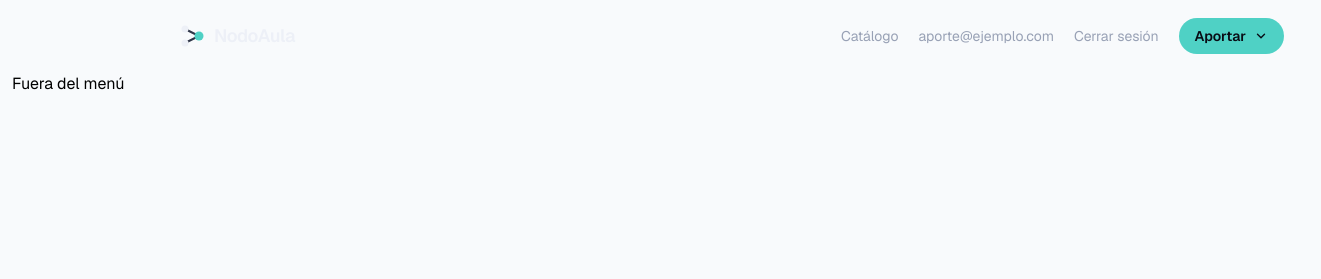
Test: SiteHeader › un clic fuera lo cierra
The image size is (1321, 279).
Click the button "Aportar" at (1231, 36), box x1=1179 y1=18 x2=1284 y2=54
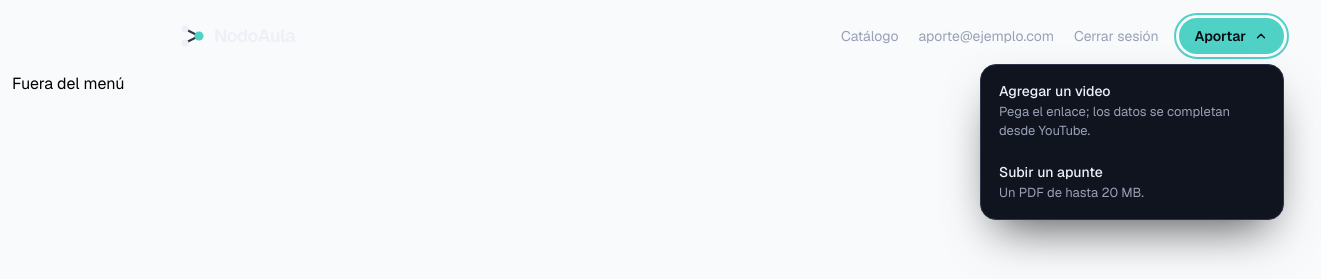
Click the text "Fuera del menú" at (68, 84), box x1=12 y1=73 x2=124 y2=94
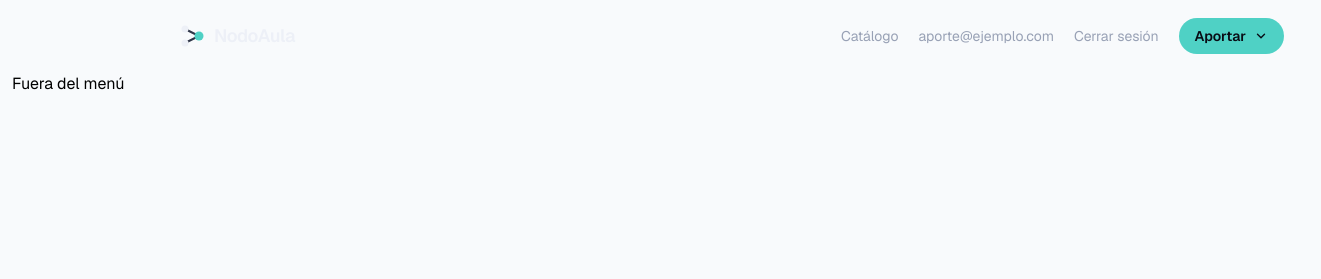
Expected: the button "Aportar" is collapsed, x1=1179 y1=18 x2=1284 y2=54
